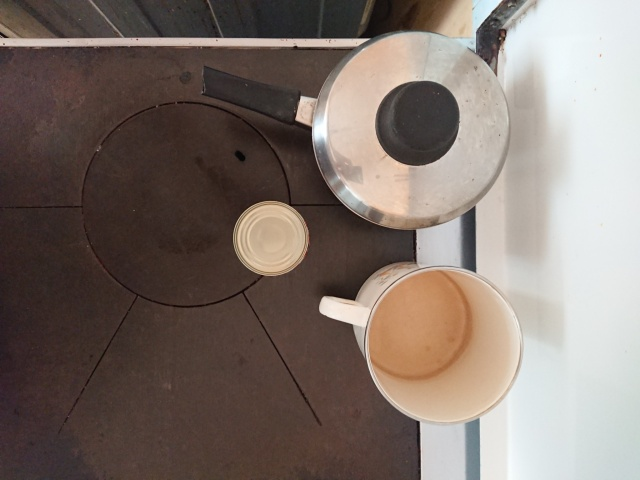Podravka Luncheon Meat 150g: (230, 197, 312, 278)
